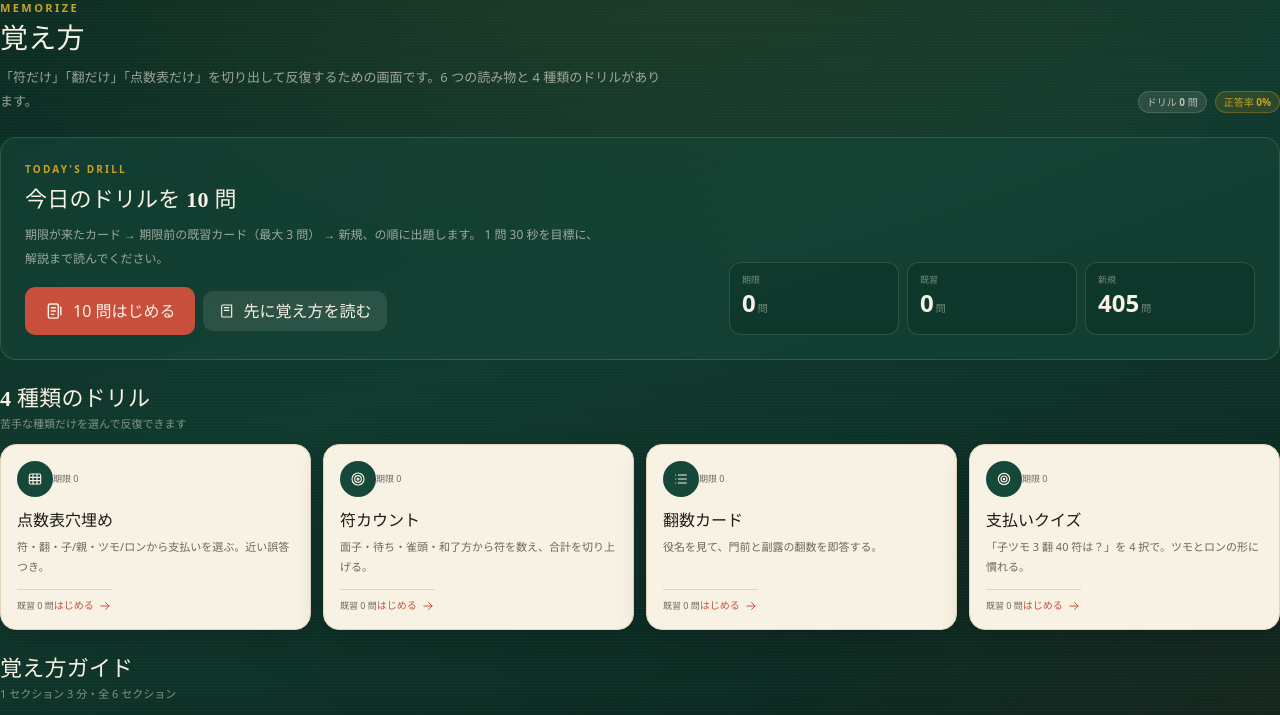
Test case: 覚え方 › キーボード 1〜4 で回答し、Enter で次へ進む
Click the button "期限 0 支払いクイズ 「子ツモ 3 翻 40 符は？」を 4 択で。ツモとロンの形に慣れる。 既習 0 問 はじめる" at (1124, 537), box [969,444,1279,630]
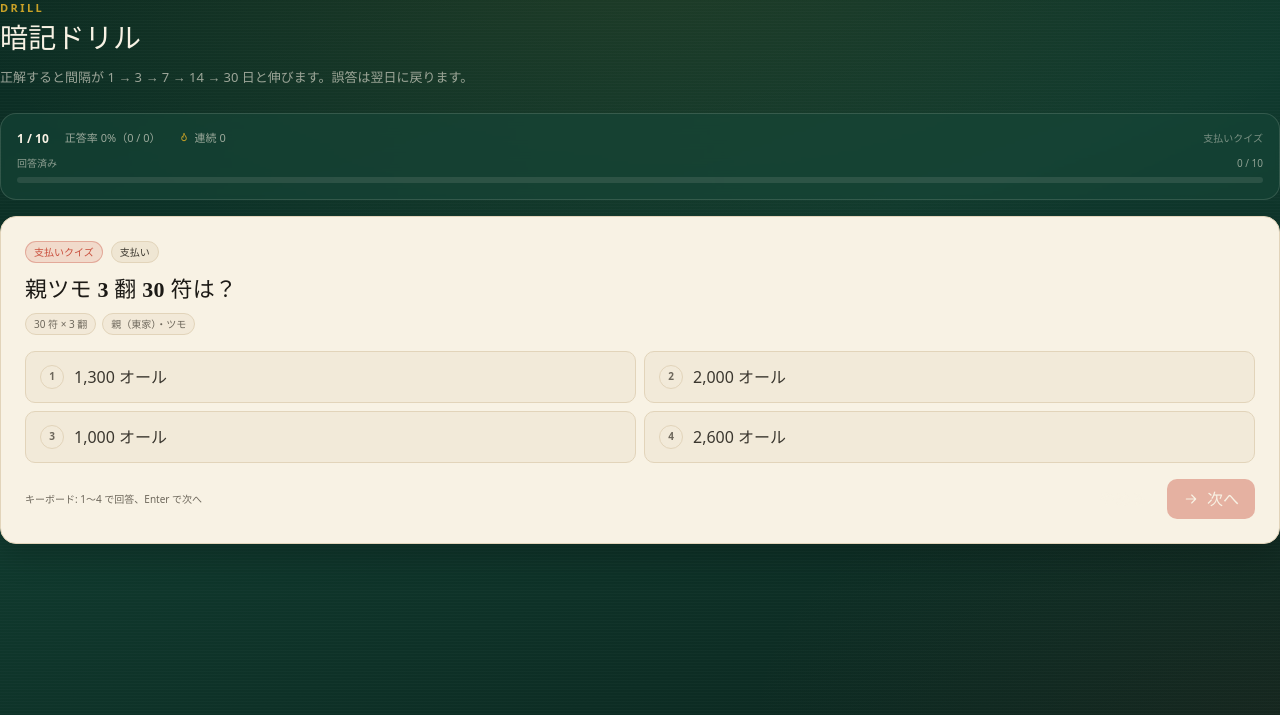
Press 2
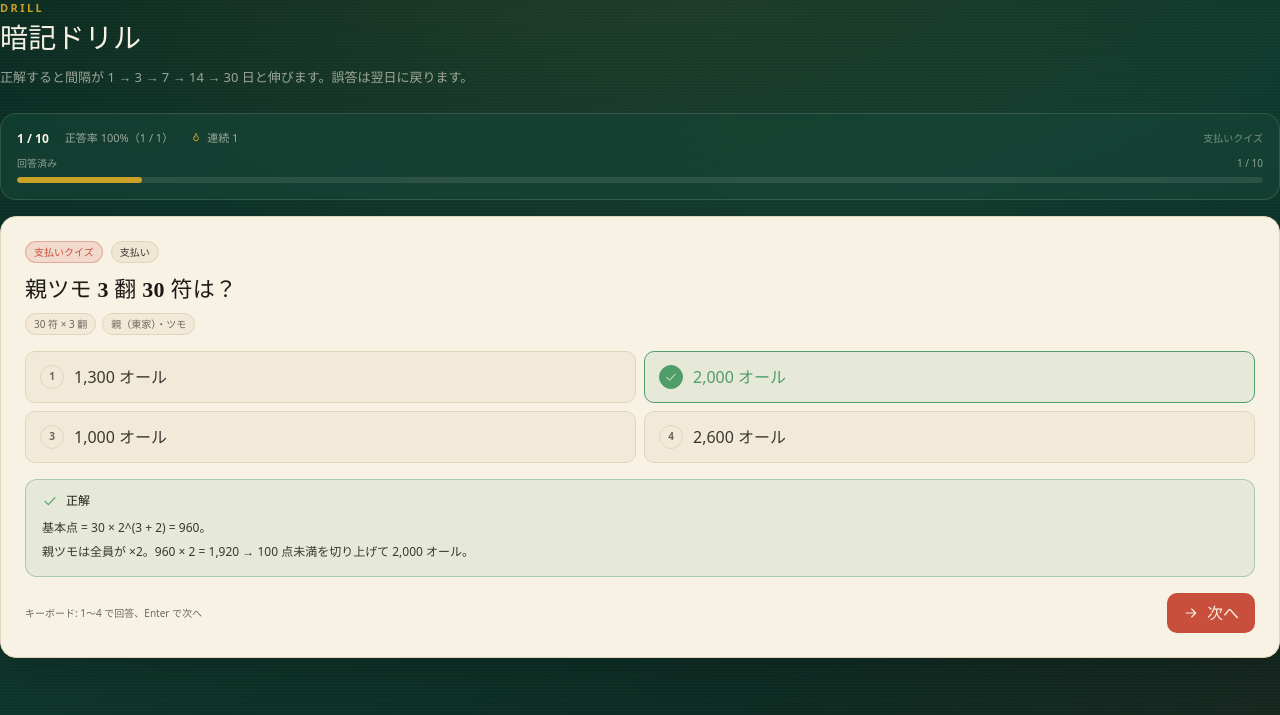
Expected: the message is shown, [25,478,1255,576]
Press Enter
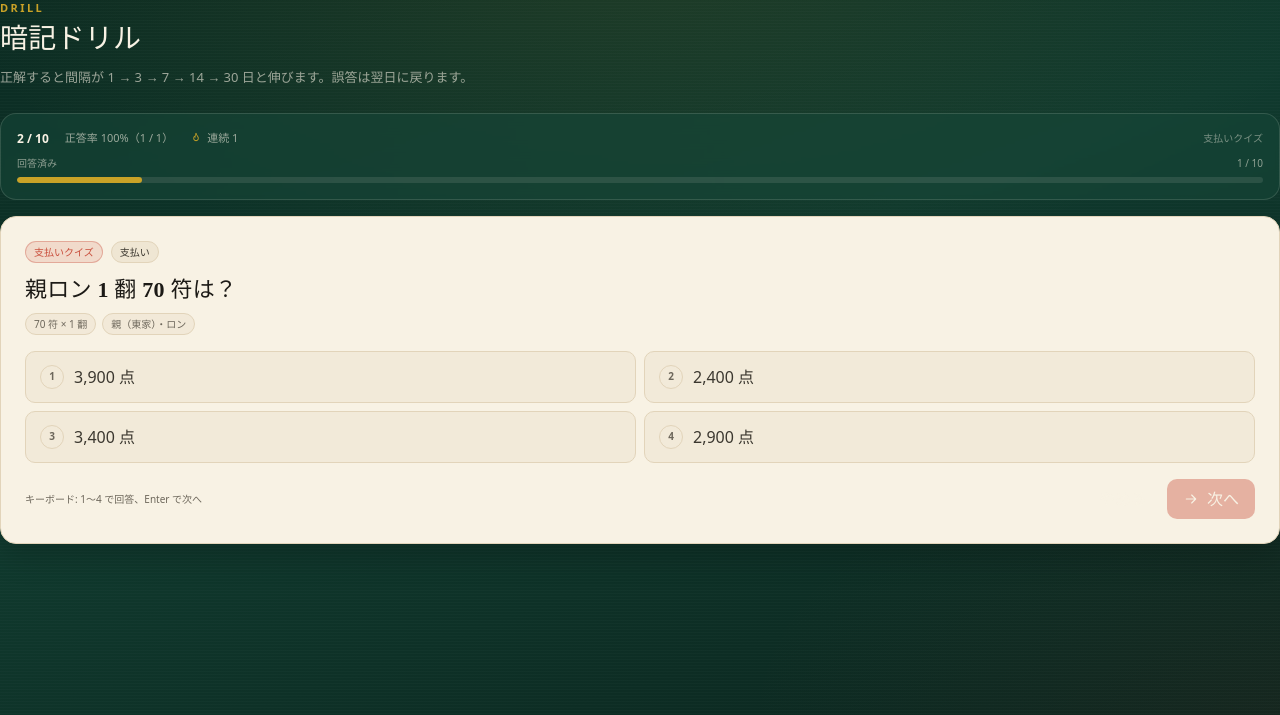
Expected: the text "2 / 10" is shown, [17,130,49,148]
